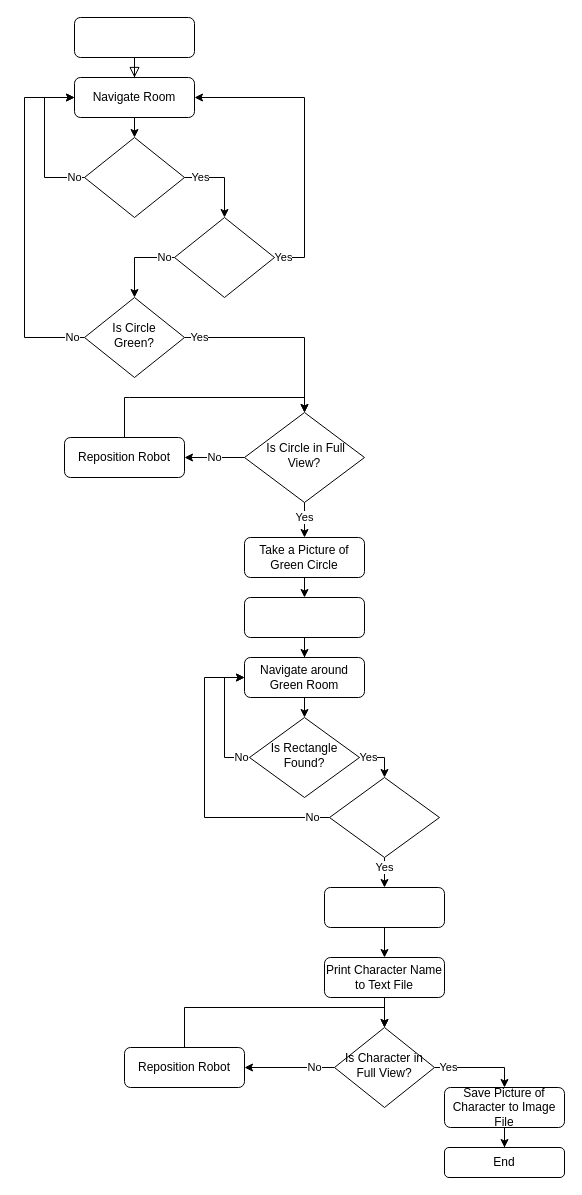
Image size: 582x1195. Some labels were removed from this diagram. The centre of each missing label's shape, as x and y in pixels:
"Enter Green Room" belongs at (x=304, y=617).
"Identify Character" belongs at (x=384, y=907).
"Is Circle Found?" belongs at (x=134, y=177).
"Is Circle Red?" belongs at (x=224, y=257).
"Is rectangle a Character?" belongs at (x=384, y=817).
"Start" belongs at (x=134, y=37).
